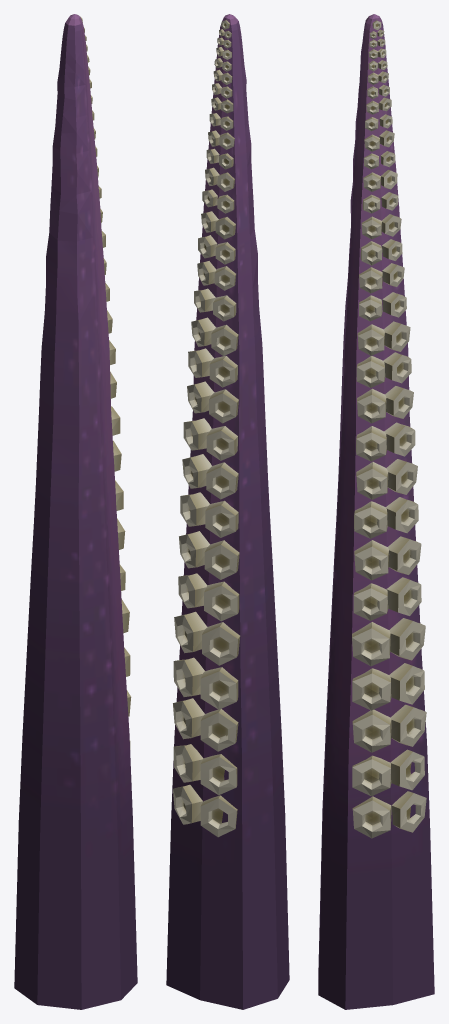
Rendered from enKrakenTentacleDio3.fbx.
3 renders of one model, left to right at view 1: azimuth 30°, elevation 25°; view 2: azimuth 210°, elevation 25°; view 3: azimuth 270°, elevation 25°, orthographic.
Parts seen in each view (by area): view 1: krakenTentacle; view 2: krakenTentacle; view 3: krakenTentacle.
Part boxes in pixels (x1=…): krakenTentacle: x1=14, y1=14, x2=137, y2=1009; krakenTentacle: x1=166, y1=14, x2=289, y2=1009; krakenTentacle: x1=318, y1=14, x2=434, y2=1009.
Size of the model in its own units: 1.89 by 17.9 by 1.94.
Materials: 1 (1 with a texture image).
